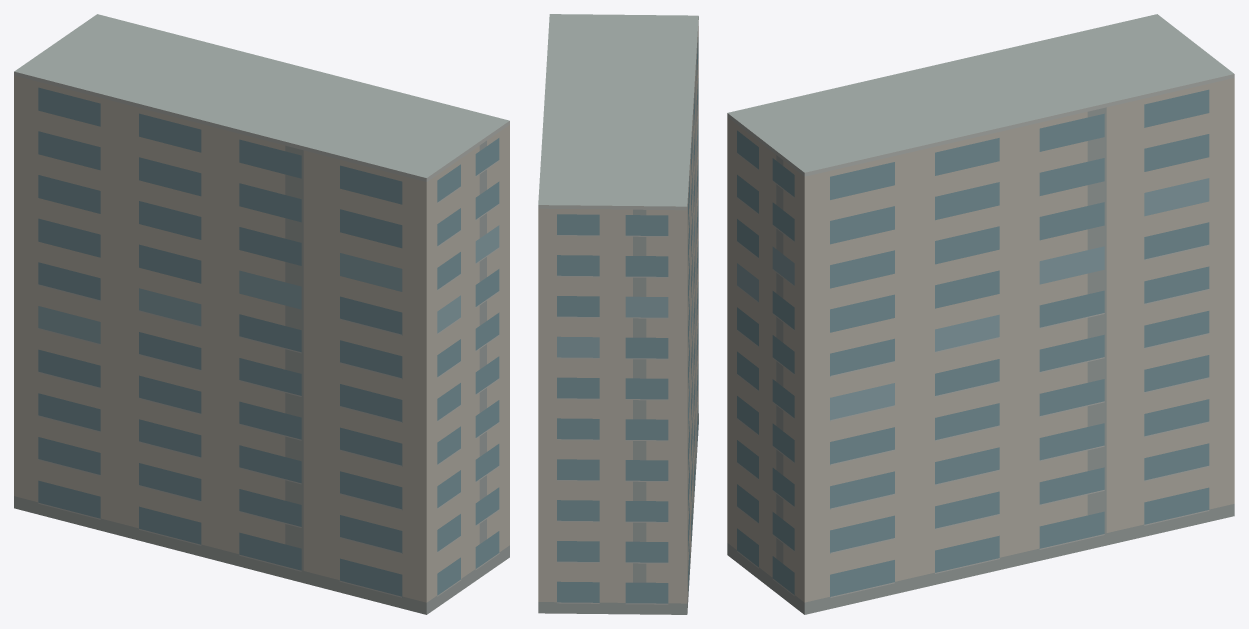
The model's file is residential-7acf79f6-b438-4b1c-b906-c59d787d2238.glb.
The picture shows the model from 3 angles, left to right: view 1: azimuth 30°, elevation 25°; view 2: azimuth 150°, elevation 25°; view 3: azimuth 270°, elevation 25°; orthographic projection. The views are drawn at different scales.
Visible parts, largest first — view 1: residential-7acf79f6-b438-4b1c-b906-c59d787d2238.tmp; view 2: residential-7acf79f6-b438-4b1c-b906-c59d787d2238.tmp; view 3: residential-7acf79f6-b438-4b1c-b906-c59d787d2238.tmp.
Part boxes in pixels (x1,y1,x2,y2): residential-7acf79f6-b438-4b1c-b906-c59d787d2238.tmp: [14, 14, 509, 614]; residential-7acf79f6-b438-4b1c-b906-c59d787d2238.tmp: [538, 14, 698, 614]; residential-7acf79f6-b438-4b1c-b906-c59d787d2238.tmp: [727, 14, 1234, 614].
Size of the model in its own units: 20.81 by 27 by 28.09.
